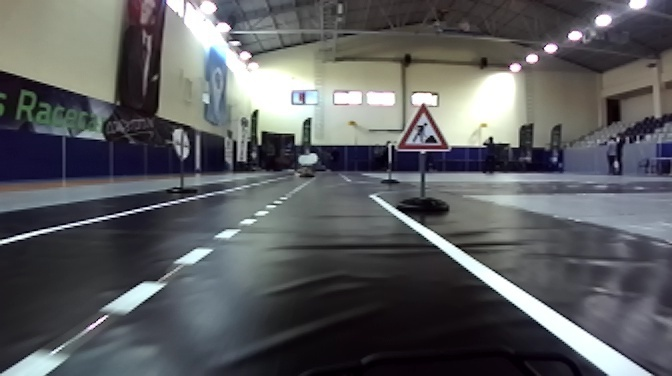yol_yapimi: (390, 101, 454, 154)
